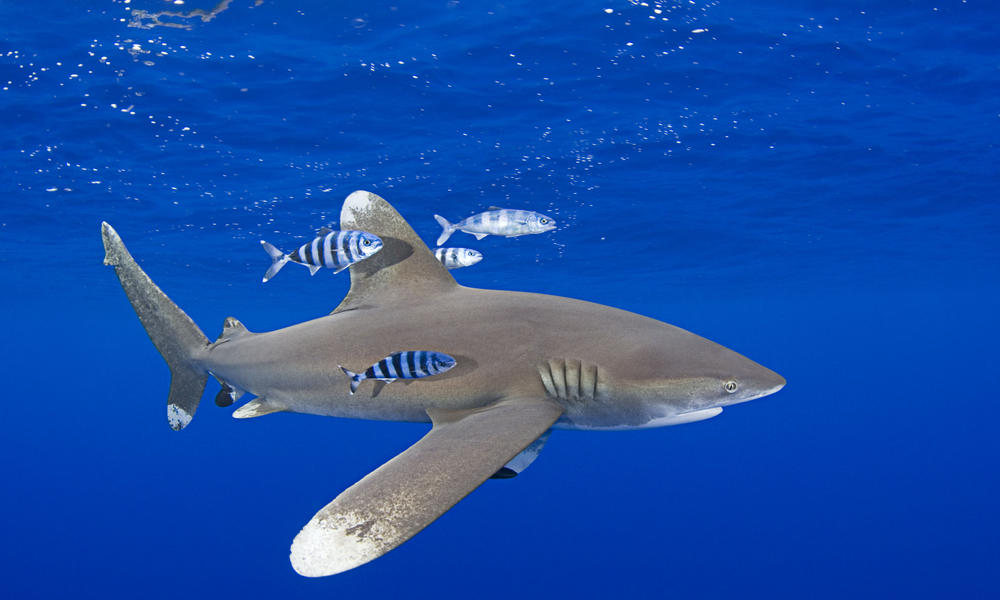shark: (87, 191, 785, 586)
